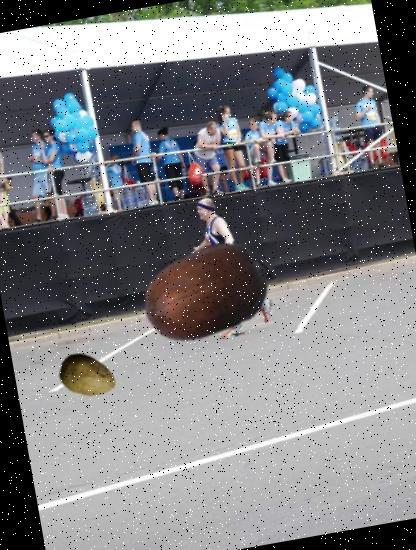Nut: (130, 218, 278, 366)
Papaya: (53, 342, 121, 410)
